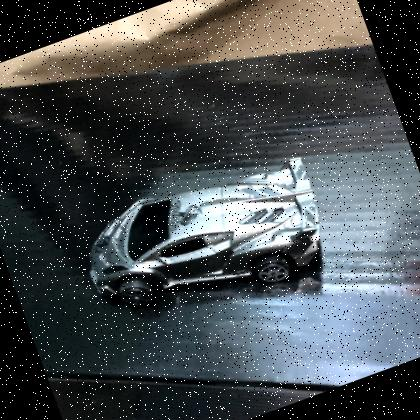Car: (89, 158, 323, 311)
